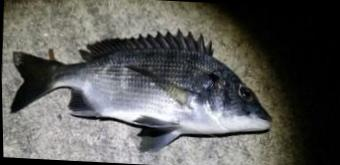fish: (7, 28, 274, 151)
